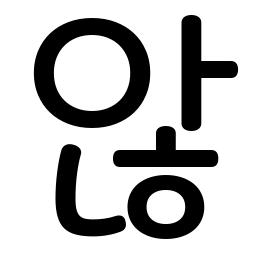Gaji: (169, 49, 216, 95)
